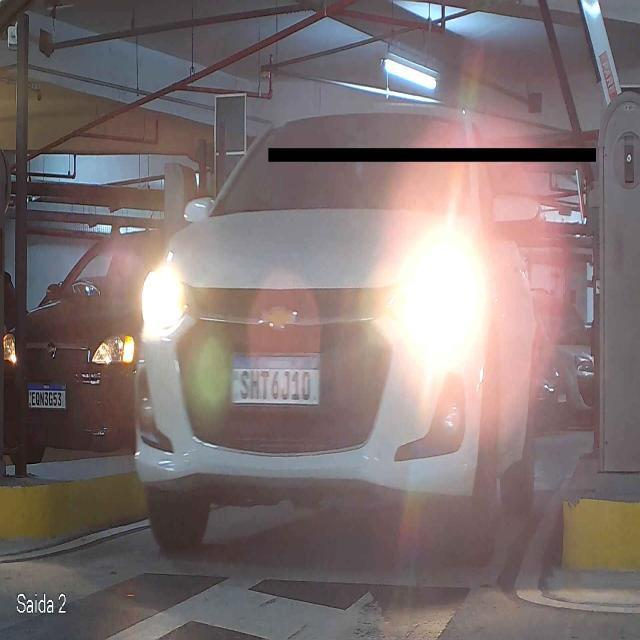mercosul_plate: (228, 352, 324, 407)
